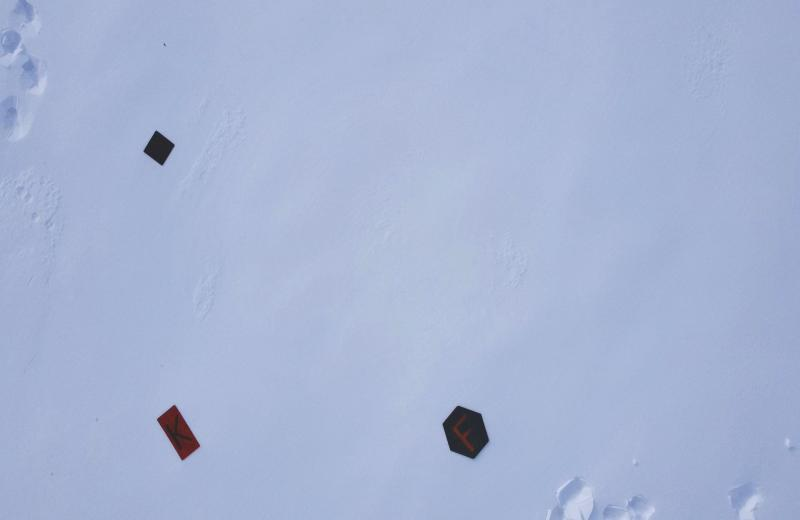Hexagon: (443, 406, 489, 461)
Rectangle: (157, 402, 201, 462)
Square: (145, 130, 176, 168)
